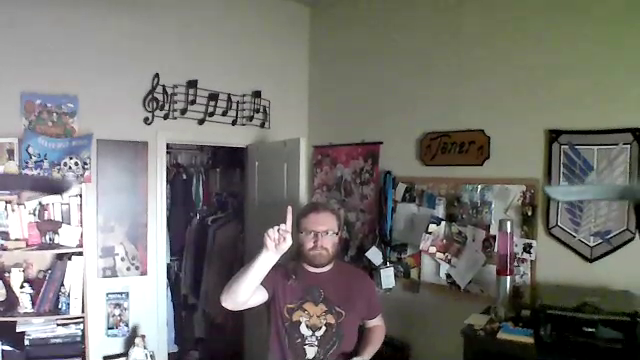up: (262, 203, 298, 258)
